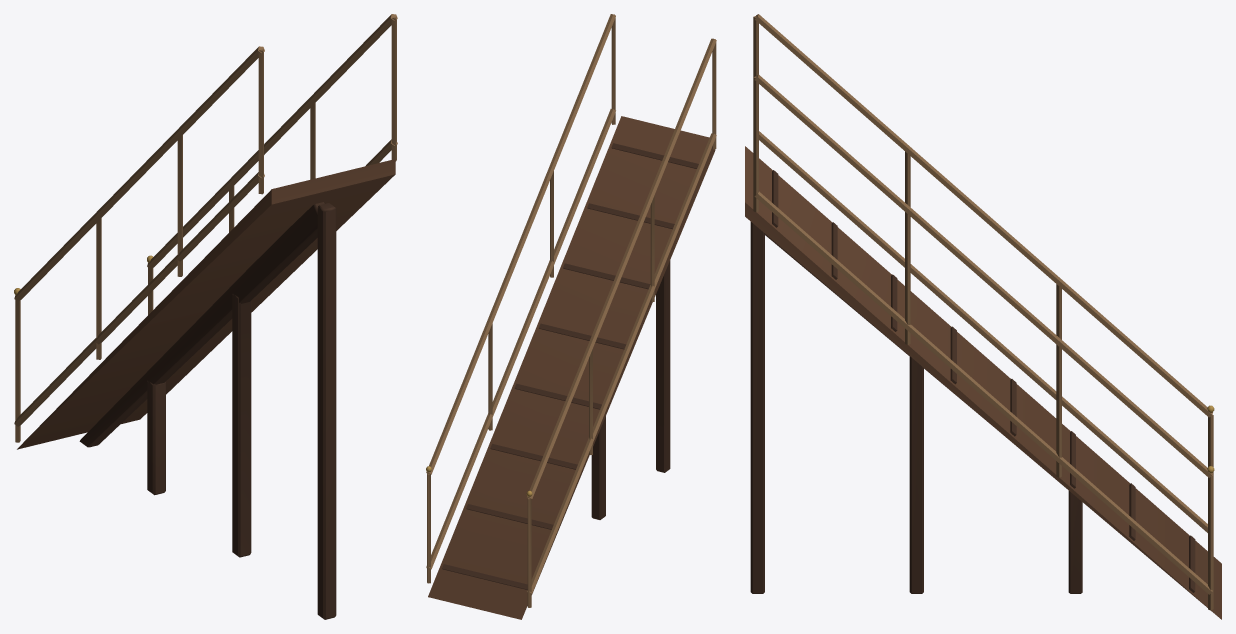
File: qb_ramp_narrow_wood.glb
3 renders of one model, left to right at view 1: azimuth 30°, elevation 25°; view 2: azimuth 150°, elevation 25°; view 3: azimuth 270°, elevation 25°, orthographic. The views are drawn at different scales.
Visible parts, largest first — view 1: qb_ramp_narrow_wood; view 2: qb_ramp_narrow_wood; view 3: qb_ramp_narrow_wood.
Part boxes in pixels (x1,y1,x2,y2): qb_ramp_narrow_wood: (14, 14, 397, 619); qb_ramp_narrow_wood: (426, 14, 716, 619); qb_ramp_narrow_wood: (745, 14, 1221, 619).
Size of the model in its own units: 0.9468 by 3.8 by 3.
